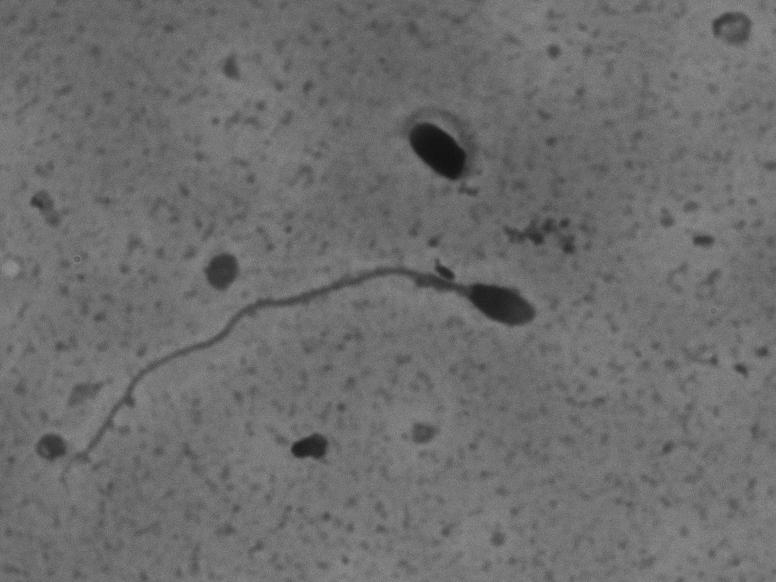Abnormal: (47, 252, 544, 490), (365, 92, 497, 212)
